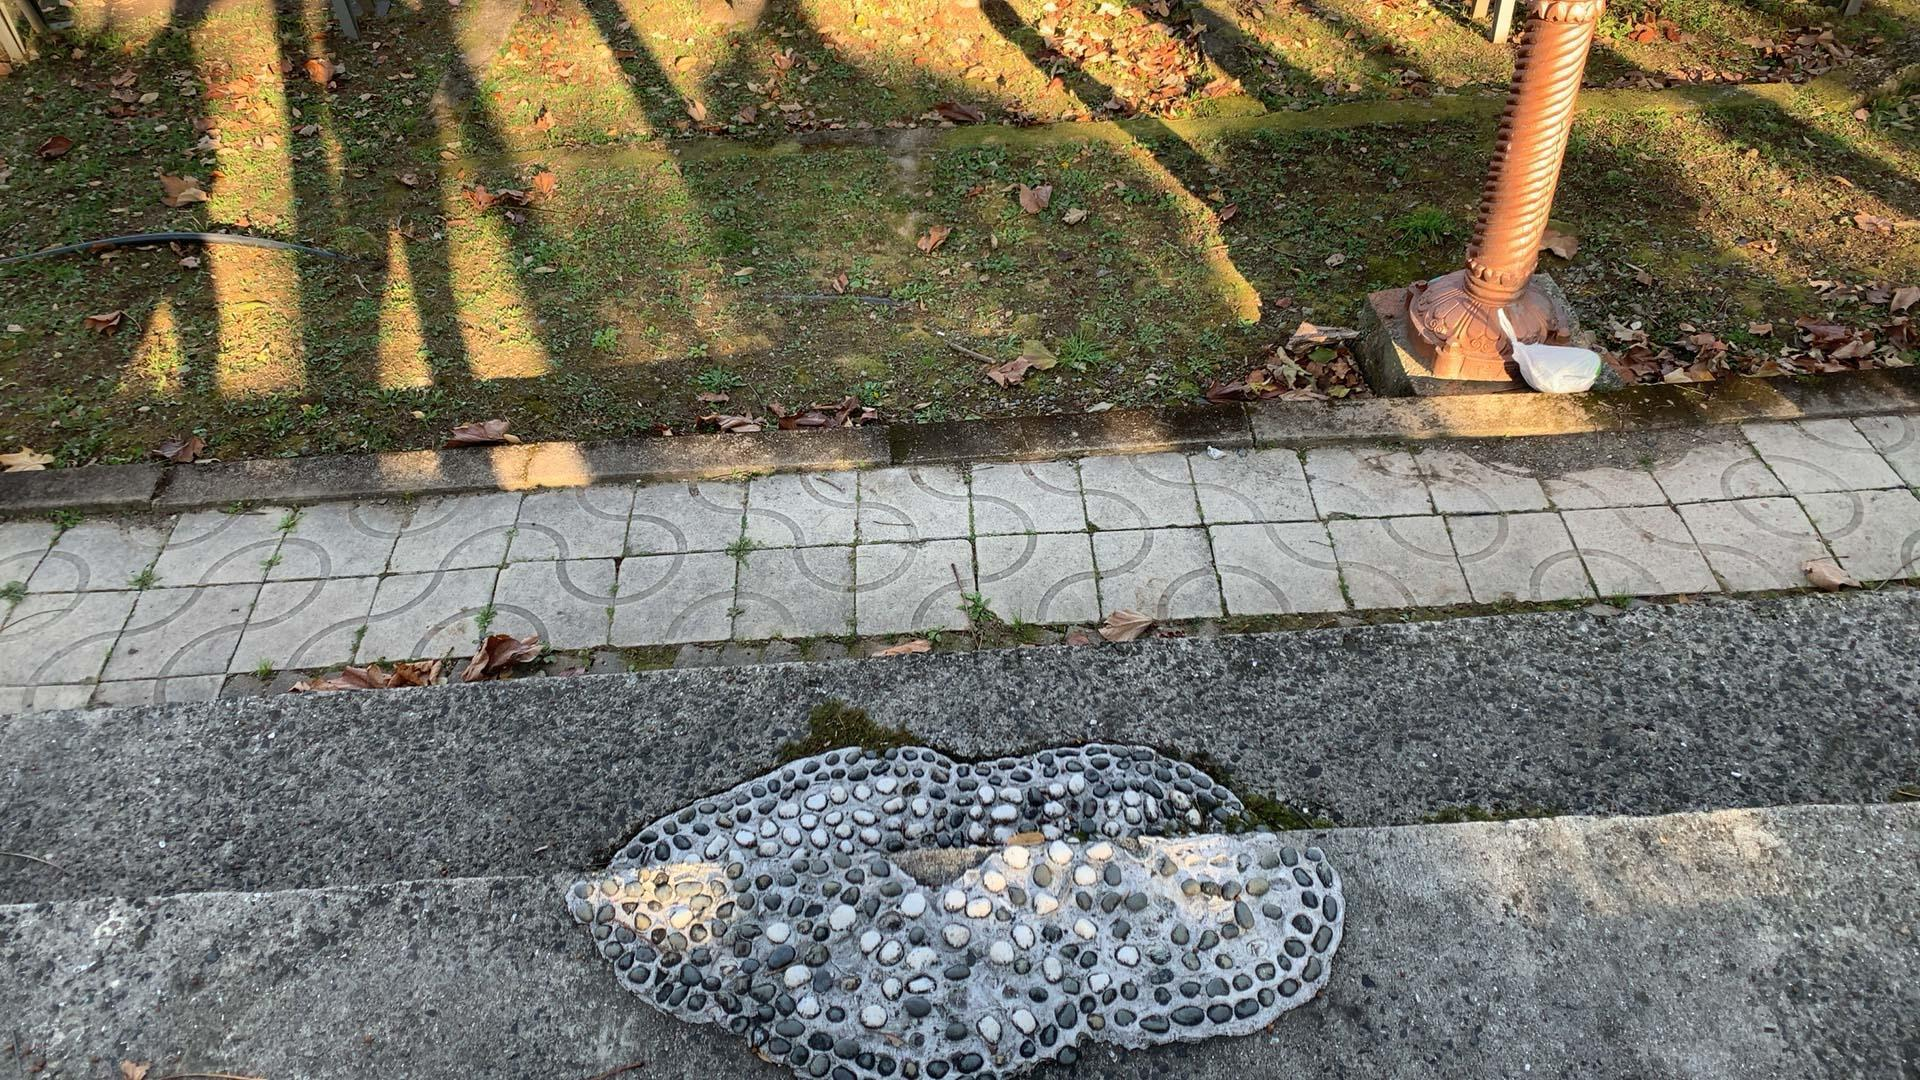white_bag: (1491, 302, 1604, 405)
